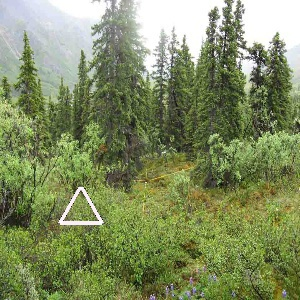triangle: (53, 184, 105, 229)
